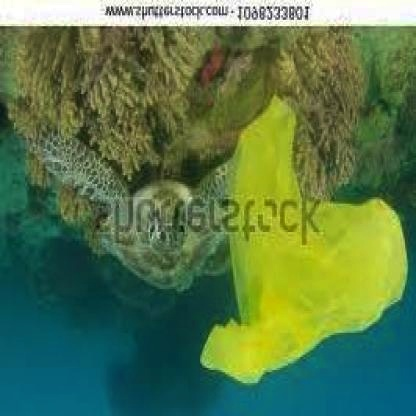pbag: (192, 90, 412, 390)
